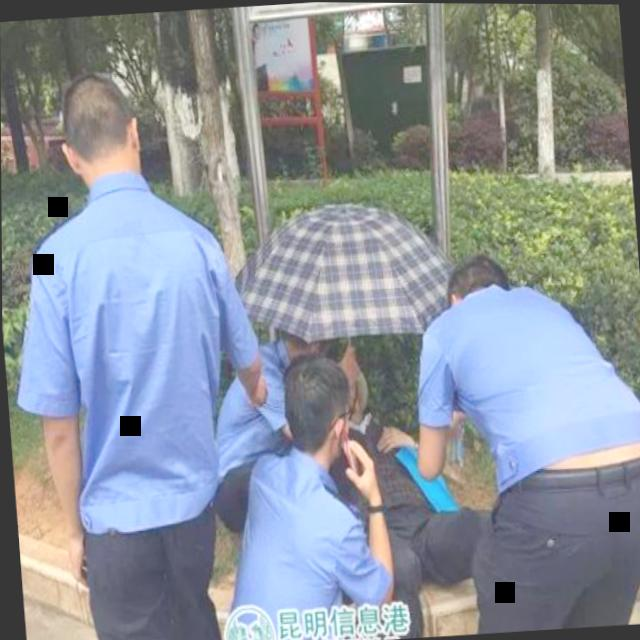Fall-Detected: (321, 363, 514, 640)
